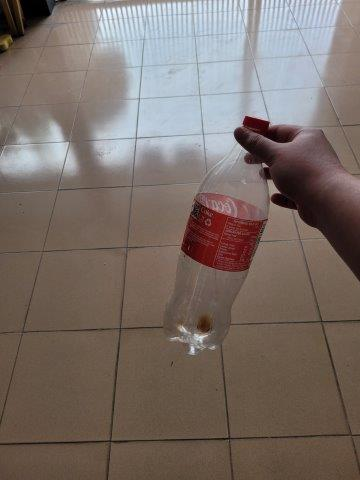botolplastik: (160, 116, 271, 351)
